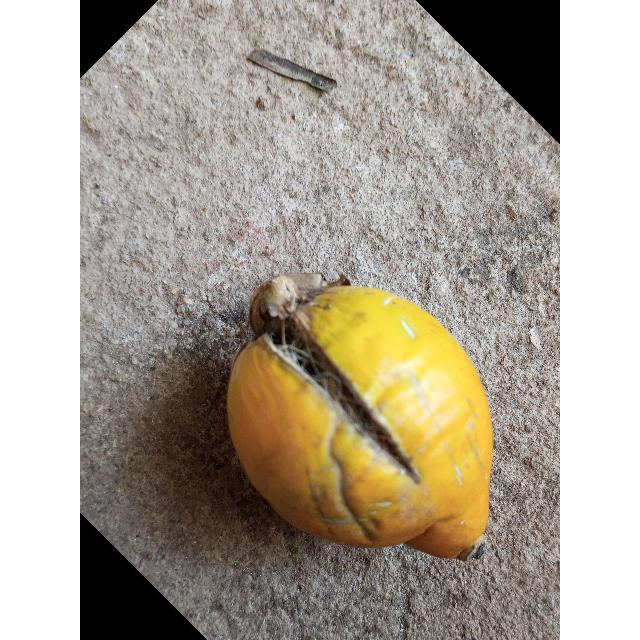damaged: (225, 274, 494, 563)
